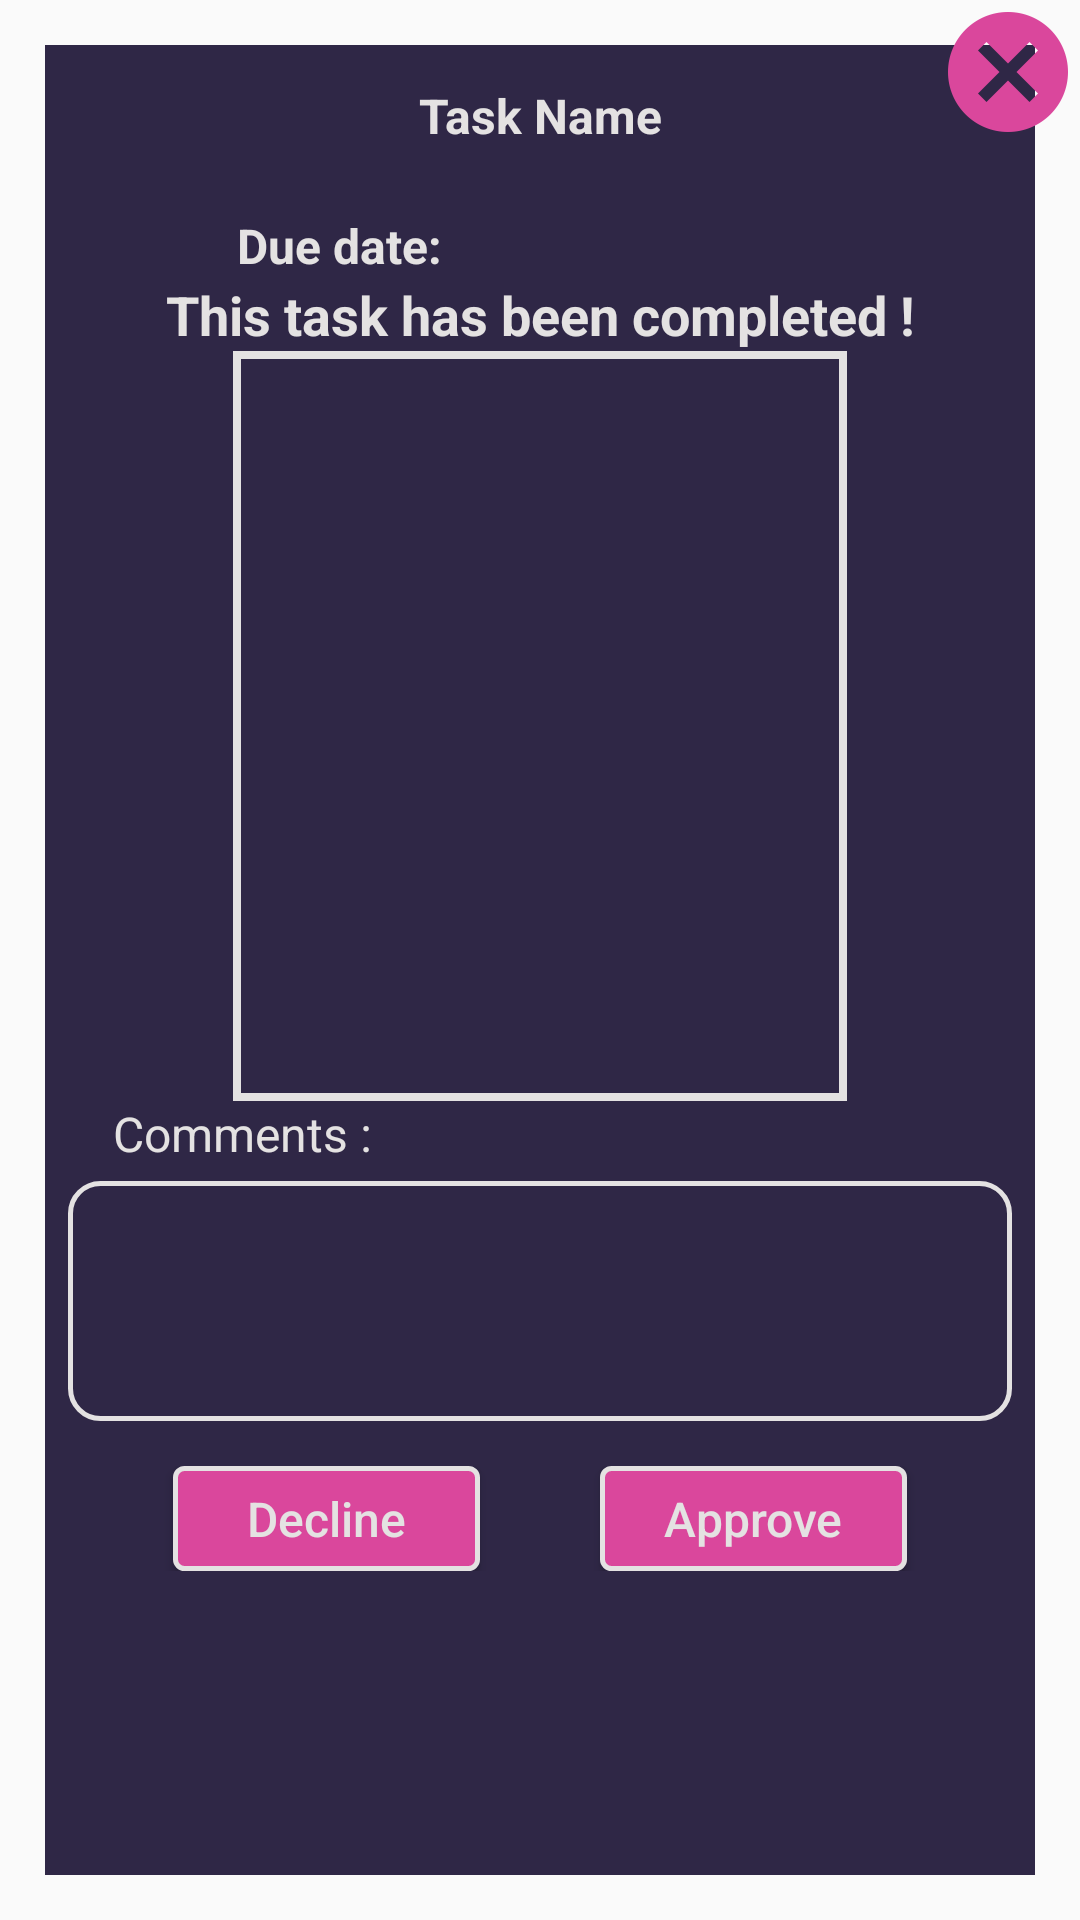

Where icons sit on this 1080 x 1920 app screen, as detection(x1, y1, x2, y2):
close: detection(936, 0, 1080, 144)
